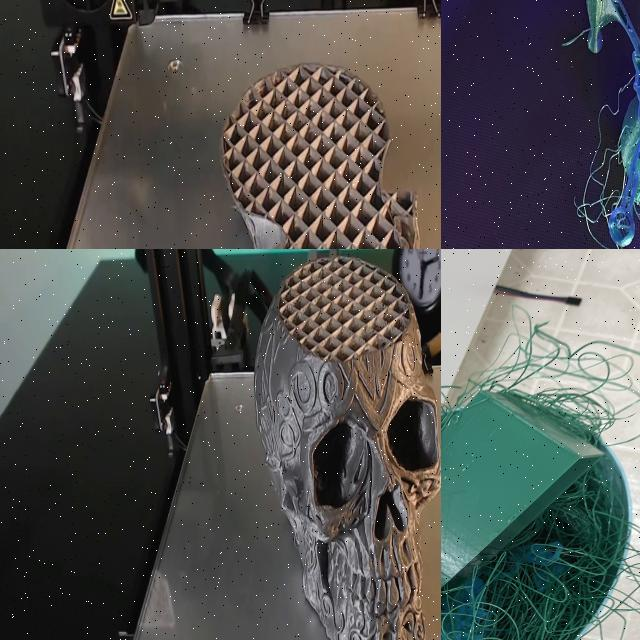spaghetti: (441, 451, 631, 640), (483, 315, 640, 459), (597, 525, 640, 640), (575, 121, 613, 249)
